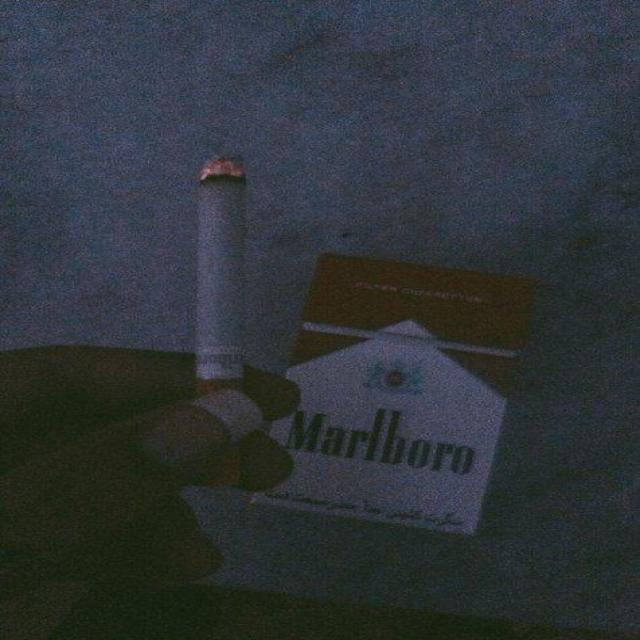rokok: (192, 139, 258, 489)
